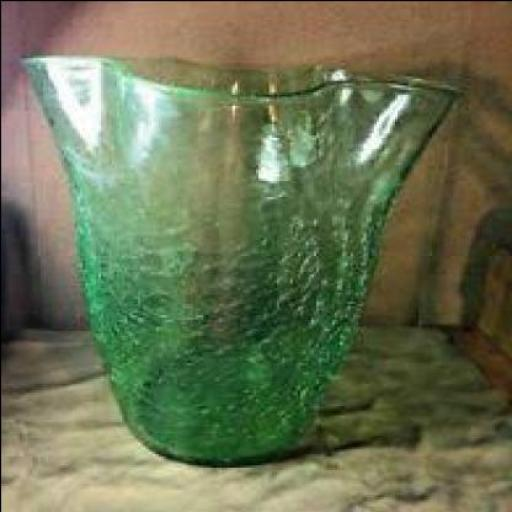glass: (24, 53, 465, 466)
